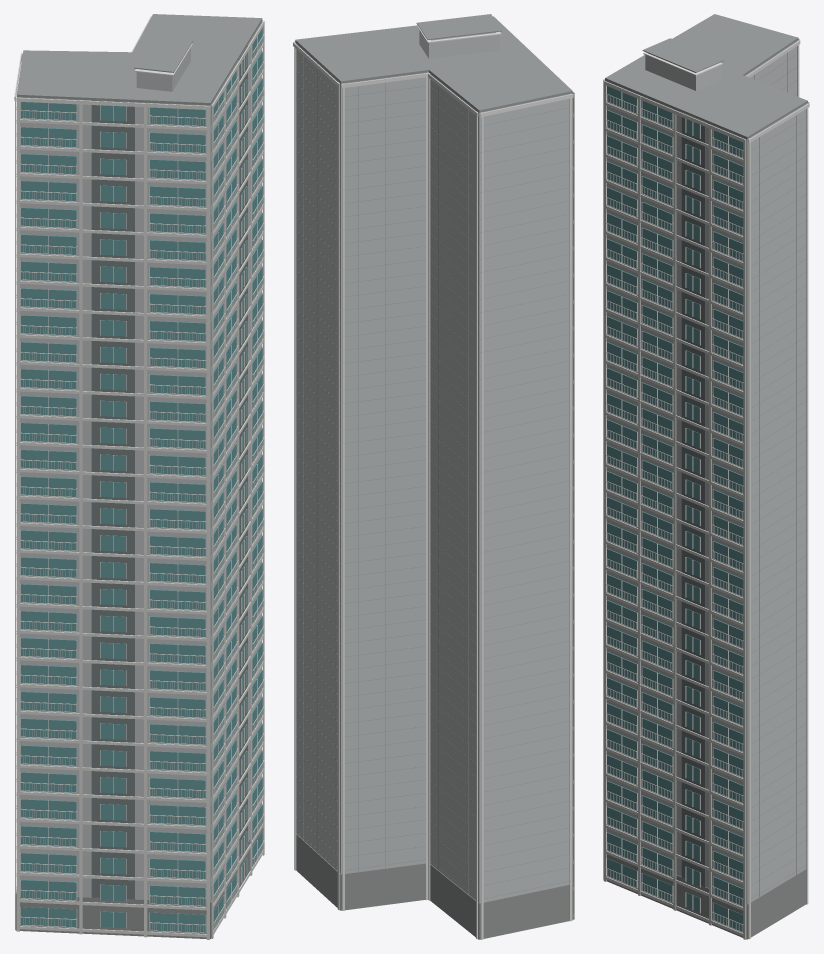
File: bespoke-jamsil-ricenz-237.glb
The picture shows the model from 3 angles, left to right: view 1: azimuth 30°, elevation 25°; view 2: azimuth 150°, elevation 25°; view 3: azimuth 270°, elevation 25°; orthographic projection. The views are drawn at different scales.
Parts seen in each view (by area): view 1: Ricenz237_editable_Ricenz237_turquoise_balcony_glazing, Ricenz237_editable_Ricenz237_light_grey_solid_wall, Ricenz237_white_exact_chunk_0, Ricenz237_white_exact_chunk_1, Ricenz237_editable_Ricenz237_narrow_charcoal_service_strips, Ricenz237_white_exact_chunk_2, Ricenz237_editable_Ricenz237_modest_grey_flat_roof_caps, Ricenz237_editable_Ricenz237_muted_ground_wall; view 2: Ricenz237_editable_Ricenz237_light_grey_solid_wall, Ricenz237_editable_Ricenz237_modest_grey_flat_roof_caps, Ricenz237_white_exact_chunk_2, Ricenz237_editable_Ricenz237_muted_ground_wall, Ricenz237_white_exact_chunk_0, Ricenz237_white_exact_chunk_1; view 3: Ricenz237_editable_Ricenz237_light_grey_solid_wall, Ricenz237_editable_Ricenz237_turquoise_balcony_glazing, Ricenz237_white_exact_chunk_2, Ricenz237_white_exact_chunk_1, Ricenz237_editable_Ricenz237_modest_grey_flat_roof_caps, Ricenz237_editable_Ricenz237_narrow_charcoal_service_strips, Ricenz237_editable_Ricenz237_muted_ground_wall.
Boxes of the visible parts, box(x1,y1,x2,y2) form: Ricenz237_editable_Ricenz237_turquoise_balcony_glazing: box(20, 28, 262, 932); Ricenz237_editable_Ricenz237_light_grey_solid_wall: box(16, 21, 262, 902); Ricenz237_white_exact_chunk_0: box(14, 52, 206, 937); Ricenz237_white_exact_chunk_1: box(16, 69, 250, 939); Ricenz237_editable_Ricenz237_narrow_charcoal_service_strips: box(91, 45, 247, 899); Ricenz237_white_exact_chunk_2: box(131, 16, 264, 938); Ricenz237_editable_Ricenz237_modest_grey_flat_roof_caps: box(16, 14, 262, 889); Ricenz237_editable_Ricenz237_muted_ground_wall: box(15, 822, 262, 938); Ricenz237_editable_Ricenz237_light_grey_solid_wall: box(295, 30, 572, 903); Ricenz237_editable_Ricenz237_modest_grey_flat_roof_caps: box(295, 14, 572, 899); Ricenz237_white_exact_chunk_2: box(293, 26, 501, 939); Ricenz237_editable_Ricenz237_muted_ground_wall: box(296, 834, 573, 939); Ricenz237_white_exact_chunk_0: box(480, 94, 573, 939); Ricenz237_white_exact_chunk_1: box(496, 18, 574, 919); Ricenz237_editable_Ricenz237_light_grey_solid_wall: box(605, 40, 807, 903); Ricenz237_editable_Ricenz237_turquoise_balcony_glazing: box(607, 86, 743, 931); Ricenz237_white_exact_chunk_2: box(603, 40, 809, 939); Ricenz237_white_exact_chunk_1: box(603, 79, 708, 922); Ricenz237_editable_Ricenz237_modest_grey_flat_roof_caps: box(605, 14, 807, 898); Ricenz237_editable_Ricenz237_narrow_charcoal_service_strips: box(681, 112, 705, 886); Ricenz237_editable_Ricenz237_muted_ground_wall: box(606, 850, 806, 939).
Bounding box in the file's own units: 29.96 × 92.22 × 20.98.
